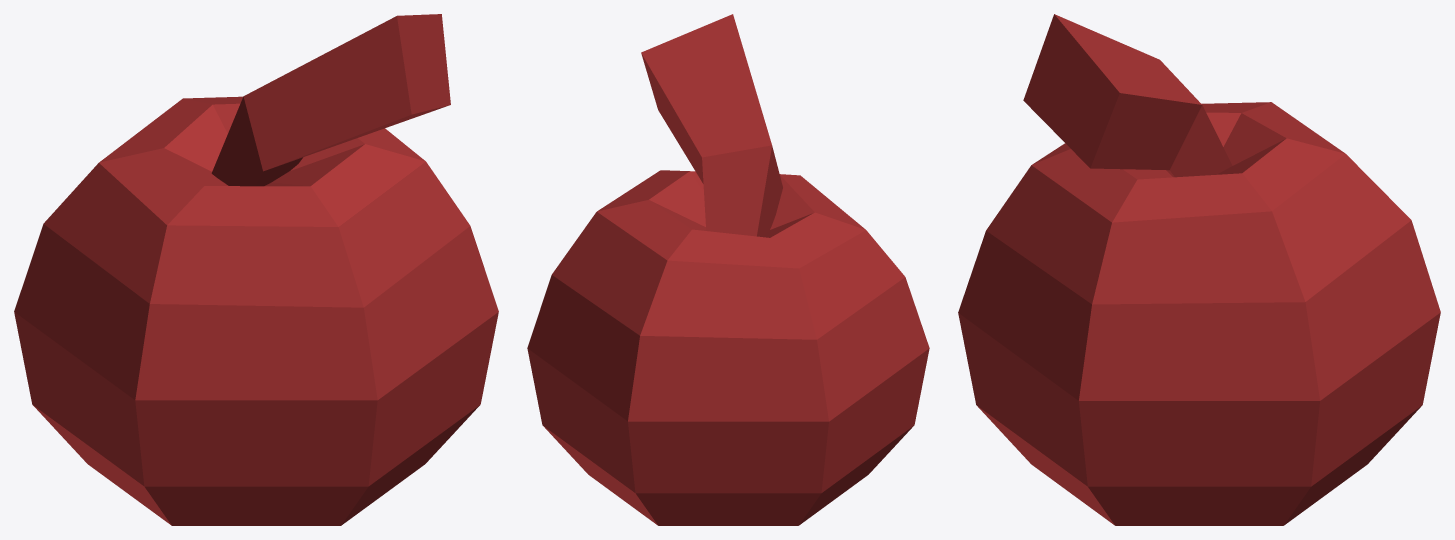
Rendered from Foodpiece_Greybox.fbx.
The picture shows the model from 3 angles, left to right: view 1: azimuth 30°, elevation 25°; view 2: azimuth 150°, elevation 25°; view 3: azimuth 270°, elevation 25°; orthographic projection. The views are drawn at different scales.
Visible parts, largest first — view 1: Core; view 2: Core; view 3: Core.
Boxes of the visible parts, box(x1,y1,x2,y2) form: Core: box(14, 14, 498, 525); Core: box(527, 14, 929, 525); Core: box(958, 14, 1440, 525).
Bounding box in the file's own units: 70.65 × 97.42 × 81.58.
